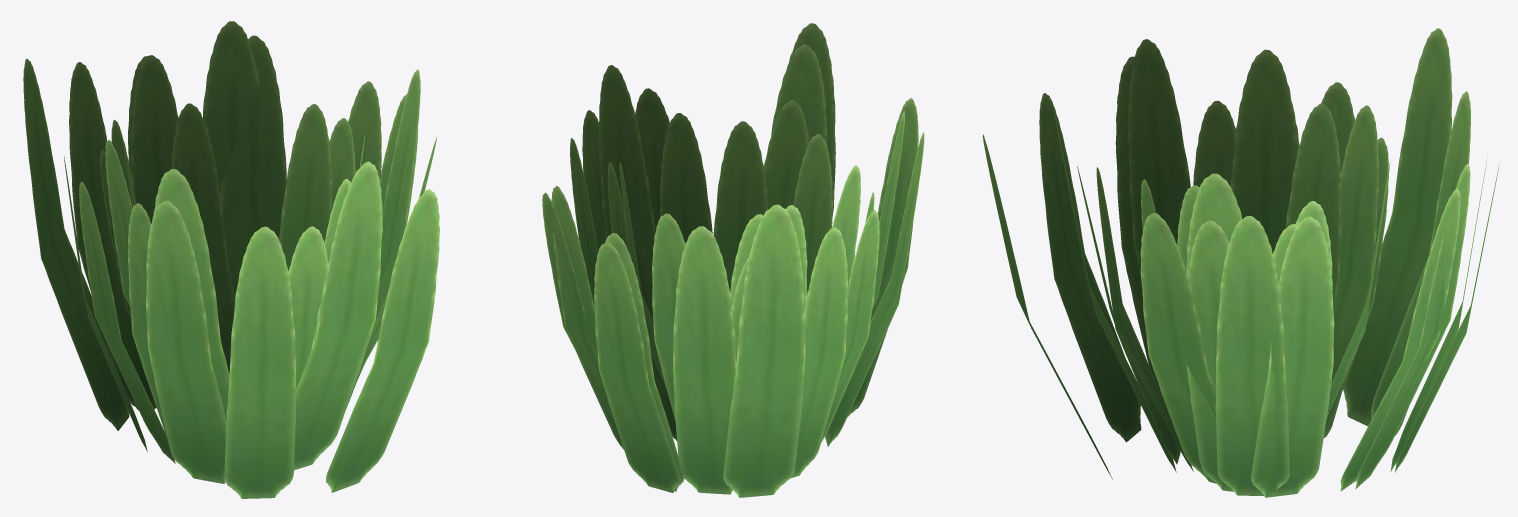
File: flower-tallgrass.glb
3 renders of one model, left to right at view 1: azimuth 30°, elevation 25°; view 2: azimuth 150°, elevation 25°; view 3: azimuth 270°, elevation 25°, orthographic. The views are drawn at different scales.
Parts seen in each view (by area): view 1: Flower; view 2: Flower; view 3: Flower.
Part boxes in pixels (box(x1,y1,x2,y2)): Flower: box(23, 21, 439, 498); Flower: box(542, 23, 924, 497); Flower: box(982, 28, 1499, 497).
Bounding box in the file's own units: 0.4678 × 0.443 × 0.5629.
1 material, 1 textured.
